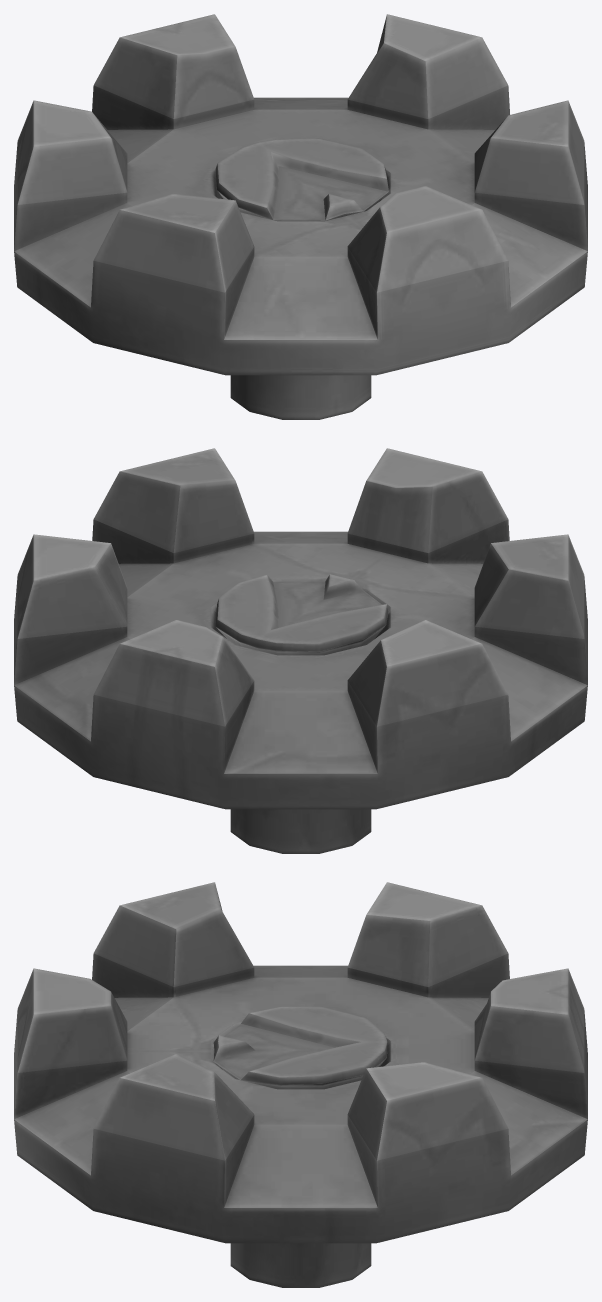
File: obj_gear09_hard.gltf
The picture shows the model from 3 angles, top to bottom: view 1: azimuth 30°, elevation 25°; view 2: azimuth 150°, elevation 25°; view 3: azimuth 270°, elevation 25°; orthographic projection.
Parts seen in each view (by area): view 1: obj_gear09_hard; view 2: obj_gear09_hard; view 3: obj_gear09_hard.
Part boxes in pixels (x1=…): obj_gear09_hard: x1=14, y1=14, x2=587, y2=419; obj_gear09_hard: x1=14, y1=448, x2=587, y2=853; obj_gear09_hard: x1=14, y1=882, x2=587, y2=1287.
Size of what is drawn, in the model's own units: 0.3214 by 0.1647 by 0.3214.
Materials: 1 (1 with a texture image).
